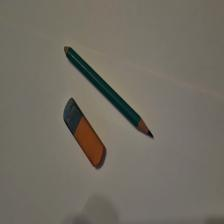eraser: (64, 98, 107, 168)
pencil: (65, 46, 155, 139)
